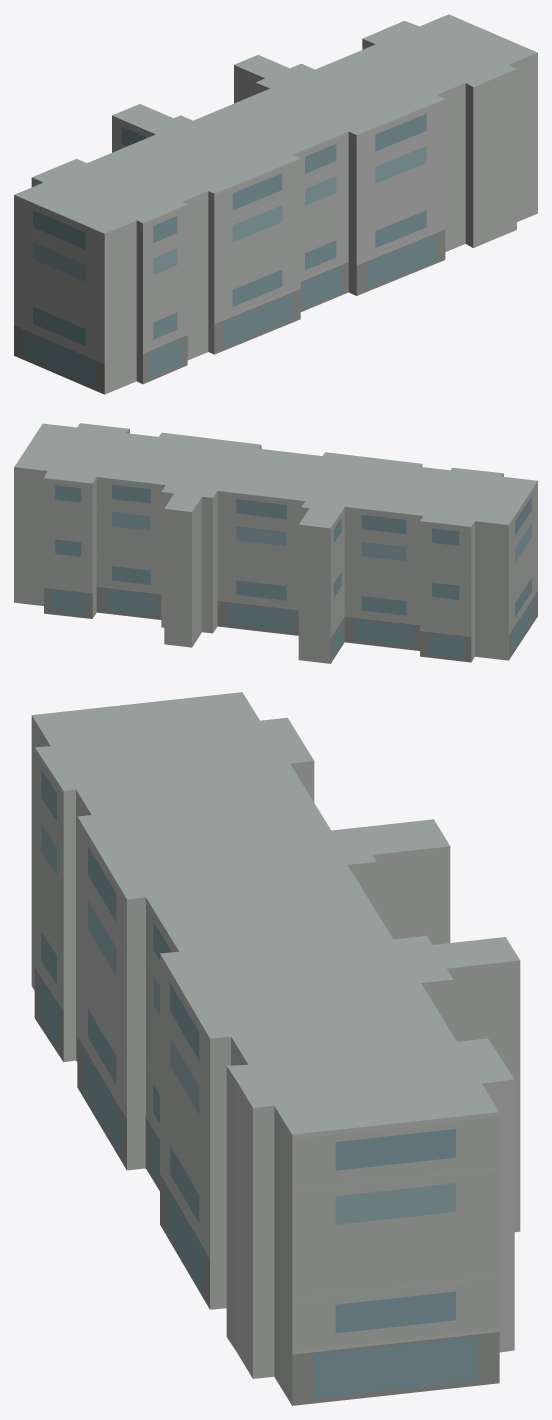
Rendered from survey-upis-32836925.glb.
3 views of the same model, one above another, from view 1: azimuth 30°, elevation 25°; view 2: azimuth 150°, elevation 25°; view 3: azimuth 270°, elevation 25° (orthographic). The views are drawn at different scales.
Parts seen in each view (by area): view 1: survey-upis-32836925.tmp; view 2: survey-upis-32836925.tmp; view 3: survey-upis-32836925.tmp.
Part boxes in pixels (x1,y1,x2,y2): survey-upis-32836925.tmp: (14,14,537,394); survey-upis-32836925.tmp: (14,423,537,663); survey-upis-32836925.tmp: (31,692,520,1405).
Bounding box in the file's own units: 53.43 × 15.25 × 24.91.
